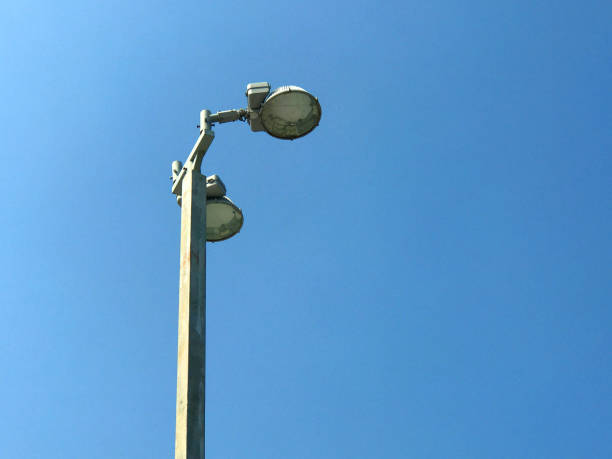light_pole: (175, 175, 208, 459)
